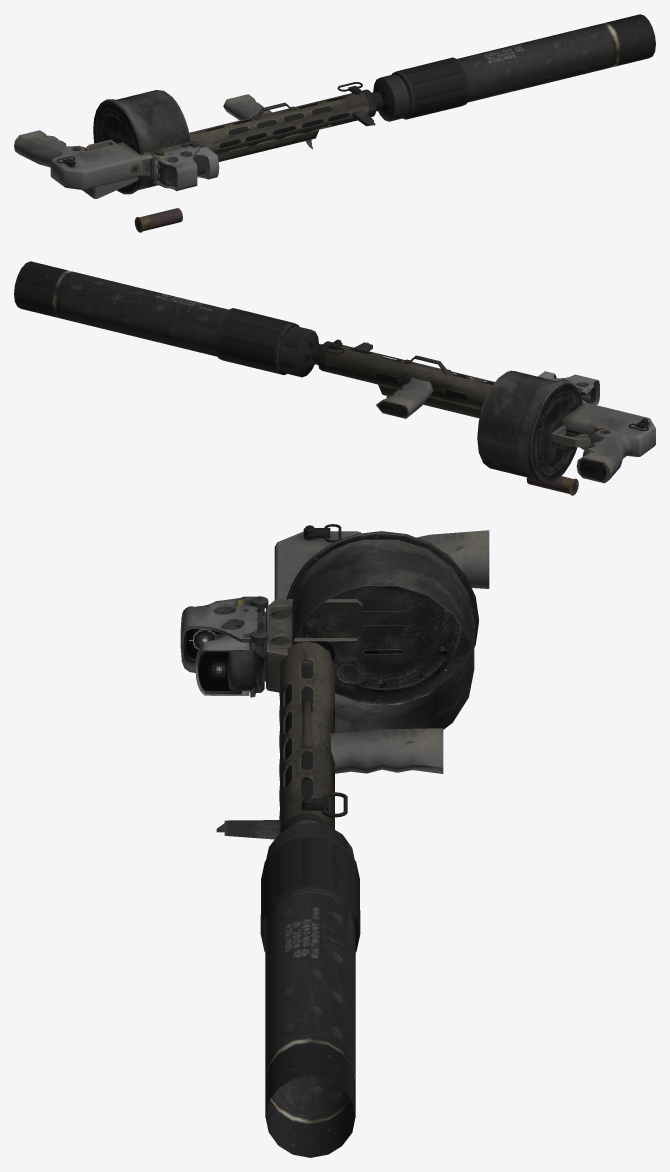
File: viewmodel_striker_digital_LOD0.obj
The picture shows the model from 3 angles, top to bottom: view 1: azimuth 30°, elevation 25°; view 2: azimuth 150°, elevation 25°; view 3: azimuth 270°, elevation 25°; orthographic projection. The views are drawn at different scales.
Visible parts, largest first — view 1: mtl_weapon_striker_digital, mtl_weapon_suppressor_b, mtl_weapon_eotech_2_digital, mtl_weapon_striker_foregrip, mtl_weapon_red_dot_sight_digital, mtl_weapon_striker_ammo; view 2: mtl_weapon_striker_digital, mtl_weapon_suppressor_b, mtl_weapon_striker_foregrip, mtl_weapon_eotech_2_digital, mtl_weapon_striker_ammo; view 3: mtl_weapon_striker_digital, mtl_weapon_suppressor_b, mtl_weapon_striker_foregrip, mtl_weapon_eotech_2_digital, mtl_weapon_red_dot_sight_digital, mtl_weapon_red_cross_small, mtl_weapon_striker_iron_sight.
Boxes of the visible parts, x1,y1,x2,y2 form: mtl_weapon_striker_digital: [14, 82, 383, 198]; mtl_weapon_suppressor_b: [373, 14, 655, 121]; mtl_weapon_eotech_2_digital: [152, 146, 206, 191]; mtl_weapon_striker_foregrip: [223, 94, 271, 120]; mtl_weapon_red_dot_sight_digital: [150, 141, 219, 181]; mtl_weapon_striker_ammo: [134, 208, 182, 232]; mtl_weapon_striker_digital: [311, 339, 655, 483]; mtl_weapon_suppressor_b: [14, 261, 318, 377]; mtl_weapon_striker_foregrip: [376, 377, 433, 418]; mtl_weapon_eotech_2_digital: [547, 374, 599, 404]; mtl_weapon_striker_ammo: [526, 476, 578, 495]; mtl_weapon_striker_digital: [214, 524, 489, 833]; mtl_weapon_suppressor_b: [260, 822, 360, 1157]; mtl_weapon_striker_foregrip: [331, 728, 443, 773]; mtl_weapon_eotech_2_digital: [180, 596, 264, 692]; mtl_weapon_red_dot_sight_digital: [195, 596, 268, 697]; mtl_weapon_red_cross_small: [198, 650, 233, 690]; mtl_weapon_striker_iron_sight: [216, 820, 286, 839].
Bounding box in the file's own units: 93.08 × 17.64 × 21.21.
